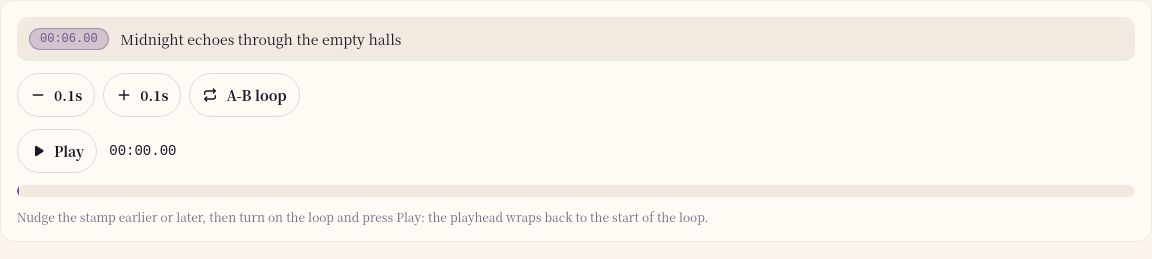
PlayerDemo › nudges the stamped line by a tenth of a second each way
Expected: the text "00:06.00" is shown, [29, 28, 109, 50]
Click the button named "0.1 seconds later": (142, 95) [103, 73, 181, 117]
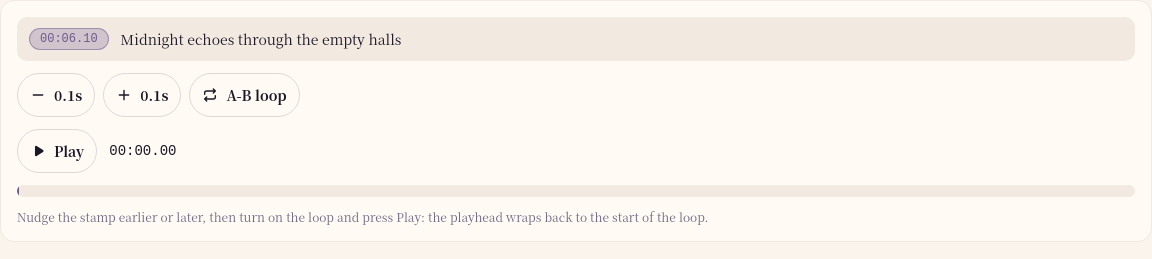
Now the text "00:06.10" is shown, box [29, 28, 109, 50]
Click the button named "0.1 seconds earlier": (56, 95) [17, 73, 95, 117]
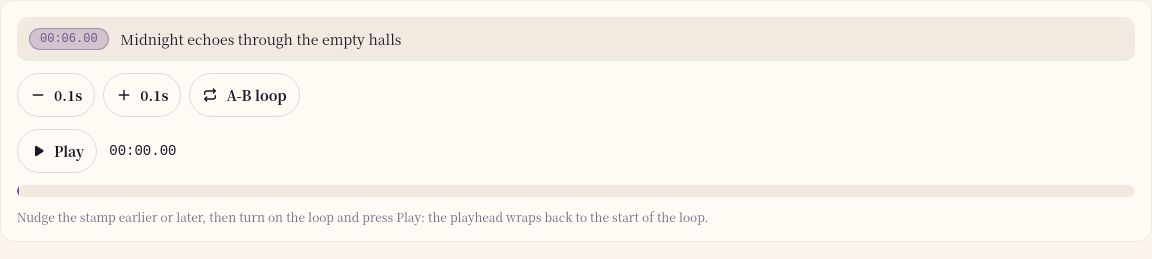
Click the button named "0.1 seconds earlier": (56, 95) [17, 73, 95, 117]
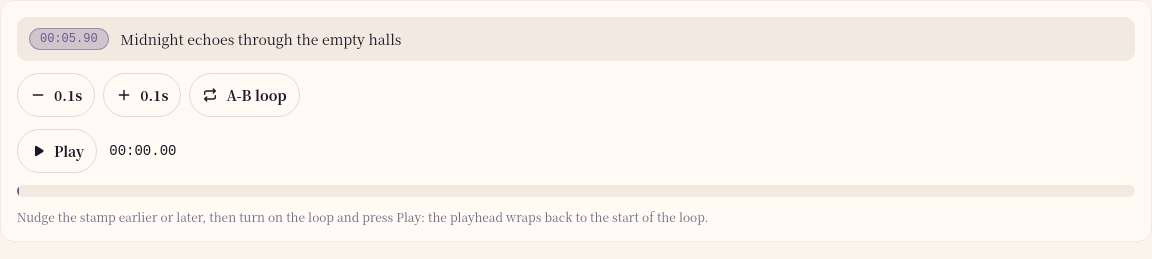
Now the text "00:05.90" is shown, box [29, 28, 109, 50]
